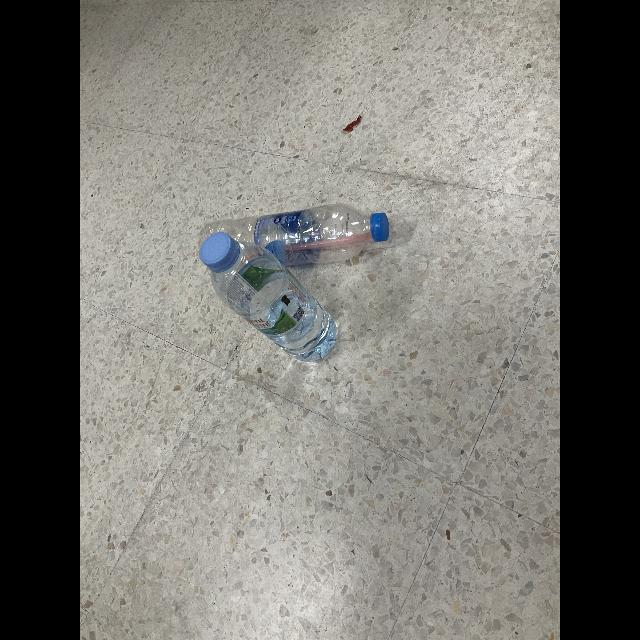plastic_bottle: (198, 234, 339, 362), (198, 204, 390, 266)
